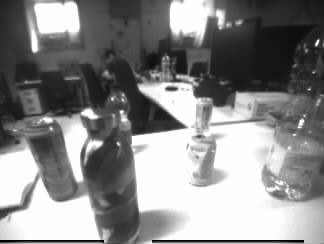Bottle: (264, 40, 323, 197), (81, 107, 141, 244), (106, 85, 133, 145), (161, 53, 169, 80)
Tin can: (25, 117, 76, 201), (187, 134, 215, 186), (195, 98, 212, 131)
